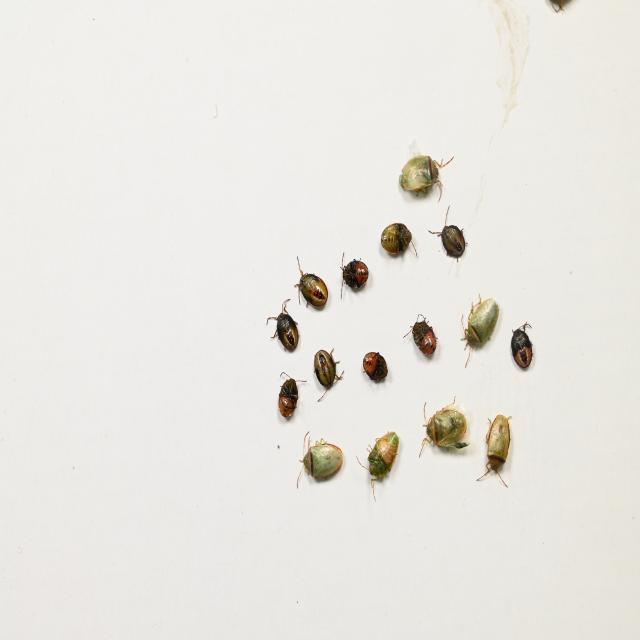stinkbug: (419, 392, 468, 463), (398, 144, 454, 200), (459, 292, 499, 370), (295, 430, 343, 494), (356, 432, 399, 502), (476, 408, 511, 492)
